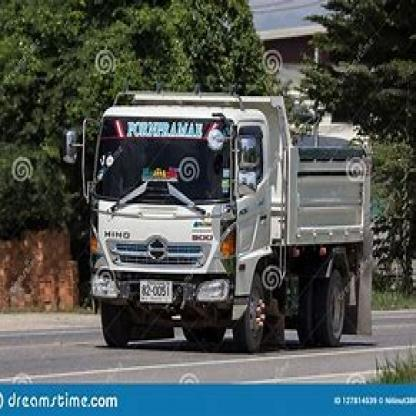dump_truck: (70, 74, 366, 355)
